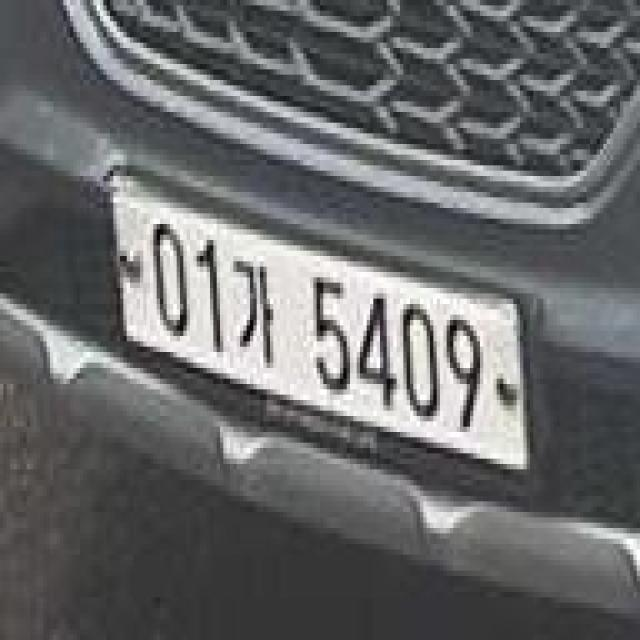illegal_plate: (111, 174, 534, 501)
